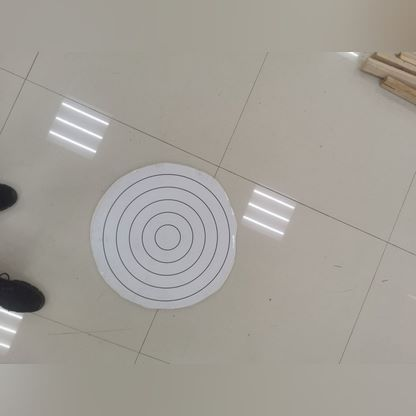circle: (88, 154, 241, 298)
